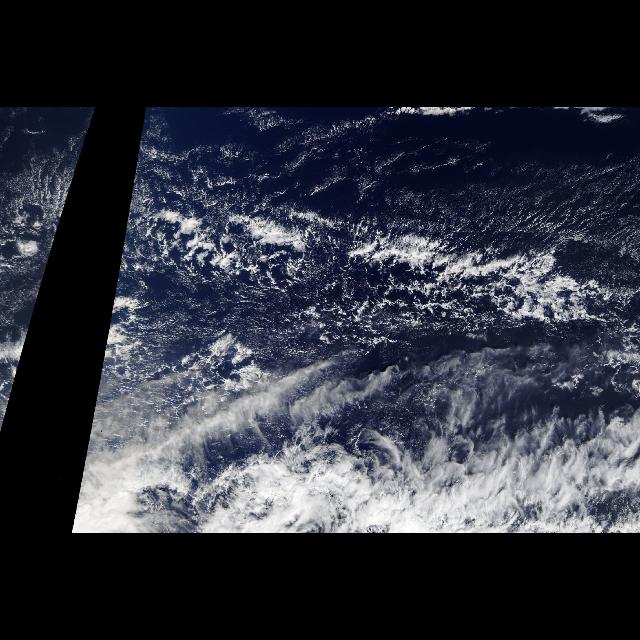Fish: (105, 140, 625, 344), (15, 140, 87, 344)
Gravel: (137, 178, 623, 326)
Sugar: (139, 113, 636, 254), (132, 283, 302, 353)
